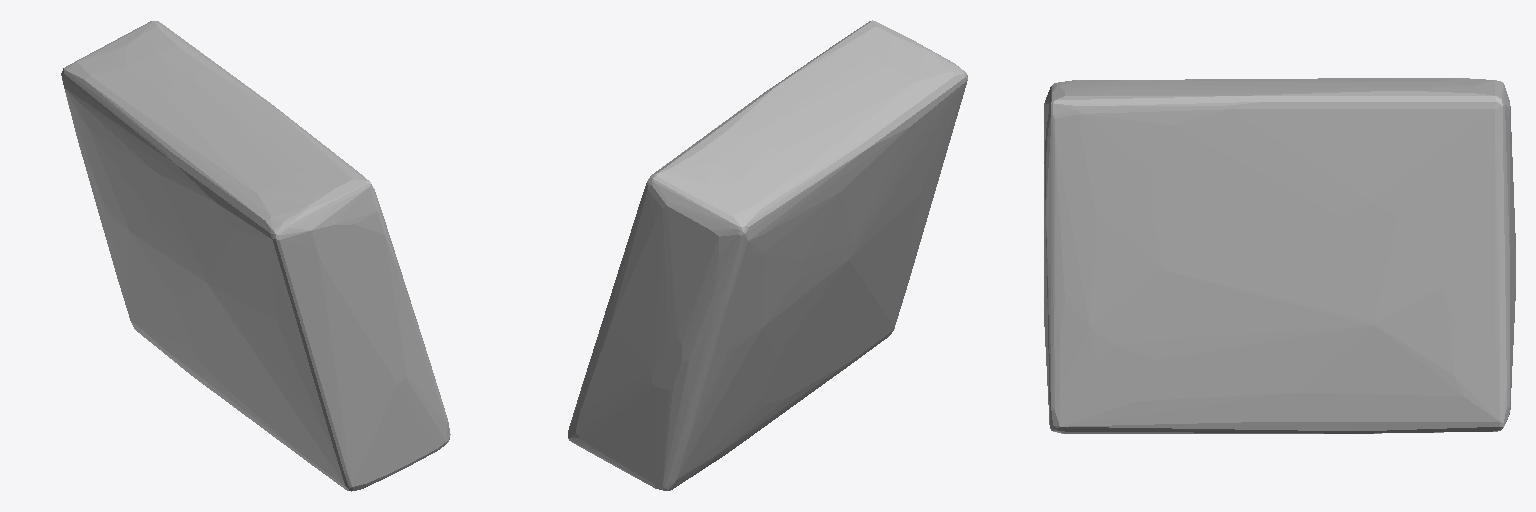
robot.urdf — root:
<robot name="root">
  <link name="link_coacd_convex_piece_0">
    <inertial>
      <origin xyz="0 0 0" rpy="0 0 0"/>
      <inertia ixx="2.20E-01" ixy="-4.20E-04" ixz="1.85E-02" iyy="9.18E-02" iyz="-6.91E-04" izz="1.64E-01"/>
    </inertial>
    <visual>
      <origin xyz="0 0 0" rpy="0 0 0"/>
      <geometry>
        <mesh filename="coacd_convex_piece_0.obj" scale="1.0000E+00 1.0000E+00 1.0000E+00"/>
      </geometry>
      <material name="">
        <color rgba="7.50E-01 7.50E-01 7.50E-01 1"/>
      </material>
    </visual>
    <collision>
      <origin xyz="0 0 0" rpy="0 0 0"/>
      <geometry>
        <mesh filename="coacd_convex_piece_0.obj" scale="1.0000E+00 1.0000E+00 1.0000E+00"/>
      </geometry>
    </collision>
  </link>
</robot>

--- What the picture shows (computed from the rendered views, not written in the file) ---
Views: 3 orthographic renders of the robot side by side, from view 1: azimuth 30°, elevation 25°; view 2: azimuth 150°, elevation 25°; view 3: azimuth 270°, elevation 25°.
Robot: root — 1 links, 0 joints (none); root link link_coacd_convex_piece_0; default pose: all joints at 0.
Visible links, largest first — view 1: link_coacd_convex_piece_0; view 2: link_coacd_convex_piece_0; view 3: link_coacd_convex_piece_0.
Boxes of the visible links, x1=… form: link_coacd_convex_piece_0: x1=61, y1=21, x2=450, y2=491; link_coacd_convex_piece_0: x1=568, y1=20, x2=967, y2=490; link_coacd_convex_piece_0: x1=1044, y1=78, x2=1515, y2=433.
Bounding box of the posed robot: 0.7269 × 1.59 × 1.21 m (x, y, z).
1 mesh visuals loaded from 1 distinct referenced files (1 OBJ).
